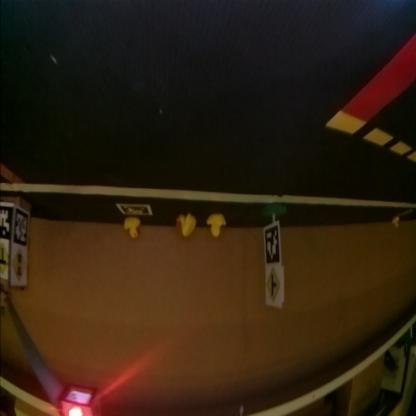Duckie: (208, 214, 227, 238), (177, 215, 197, 237), (126, 218, 140, 238), (394, 218, 400, 228)
Intersection sign: (266, 270, 282, 308), (2, 244, 8, 276)
QR code: (266, 226, 282, 264), (16, 210, 30, 247), (118, 205, 152, 215), (2, 207, 12, 240)
Signal sign: (12, 248, 26, 282)
